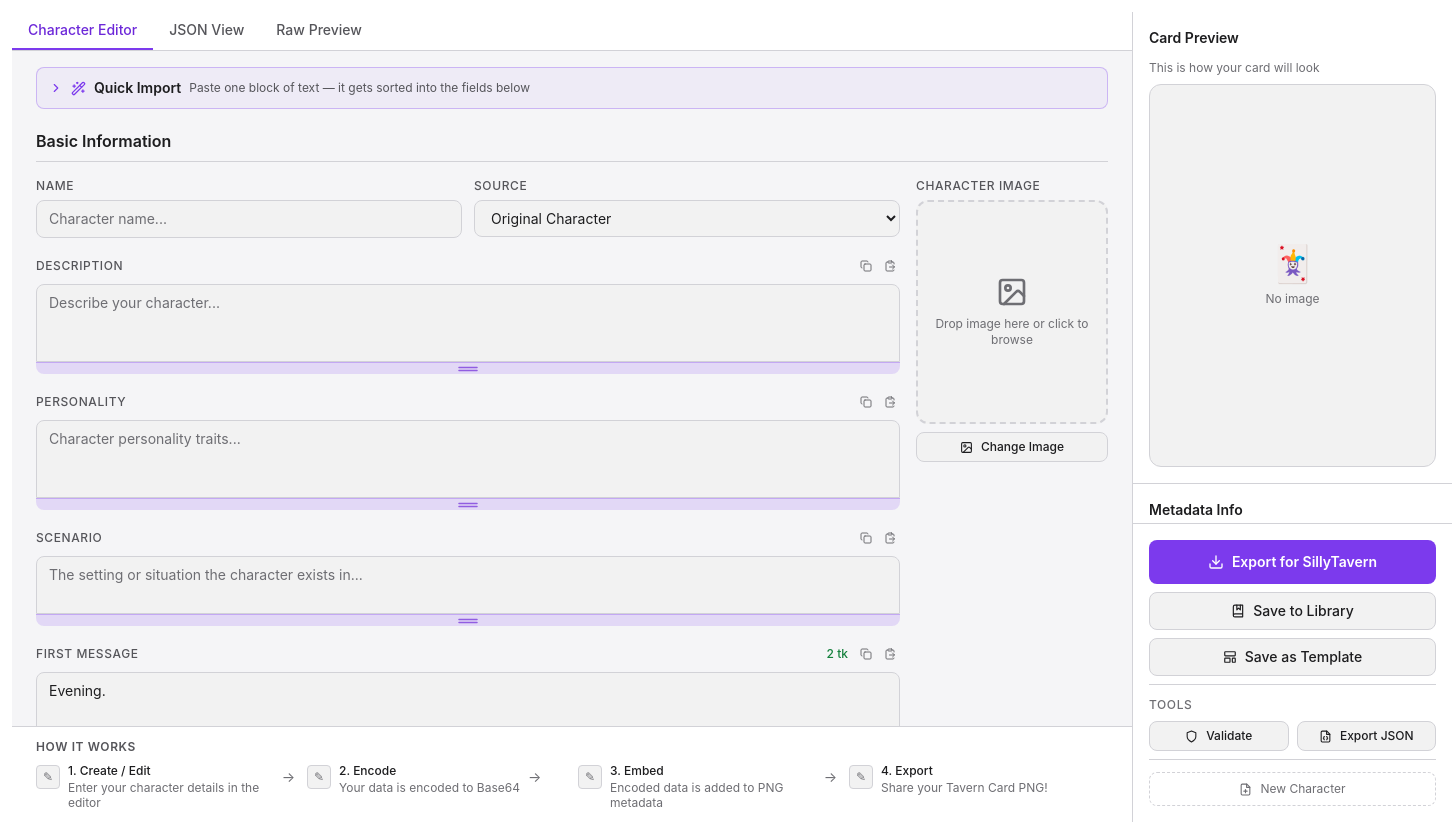
CreateCard › reports validation errors for a card that is missing required fields
The image size is (1452, 822).
Click the button "Validate": (1219, 736) 1149,721 -> 1288,751
(page scrolled)
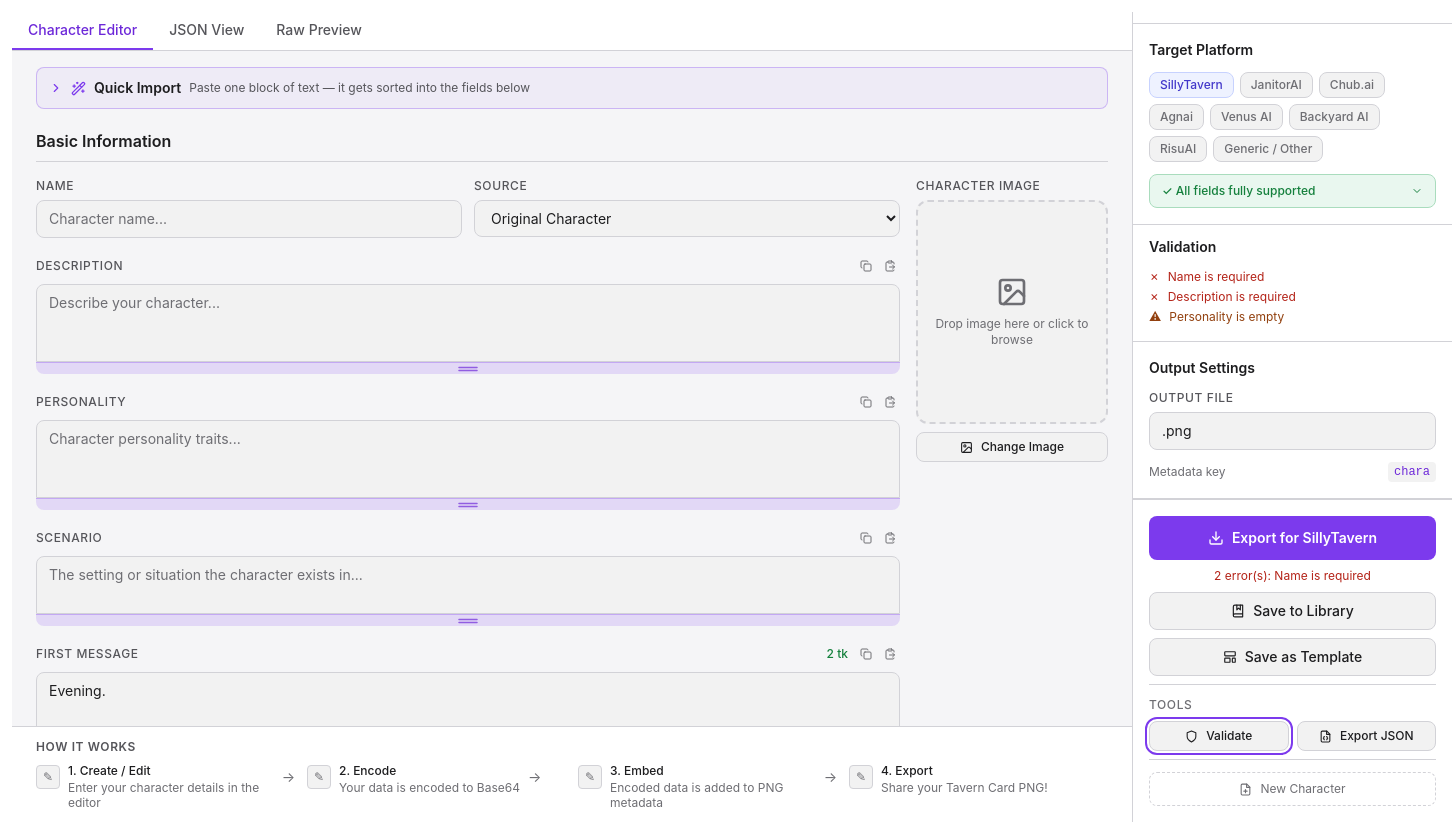
Result: the text "Name is required" is shown at 1168,269 -> 1264,285
Result: the text "Description is required" is shown at 1168,289 -> 1296,305
